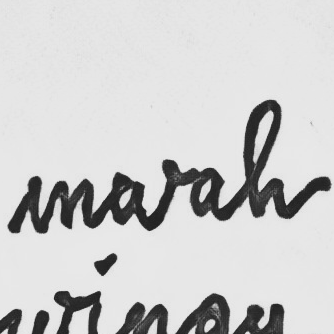a: (187, 164, 228, 225)
h: (241, 97, 292, 222)
m: (25, 172, 97, 235)
w: (108, 155, 180, 232)
